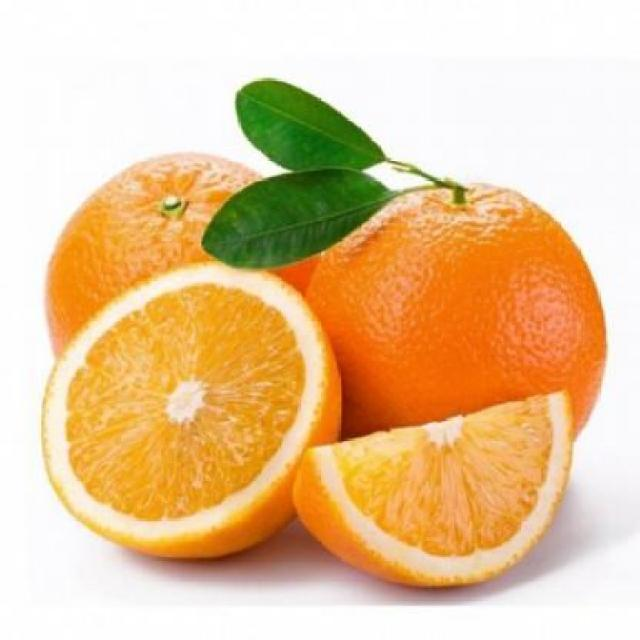Jeruk Sudah Matang: (310, 183, 604, 502), (45, 153, 333, 450)
